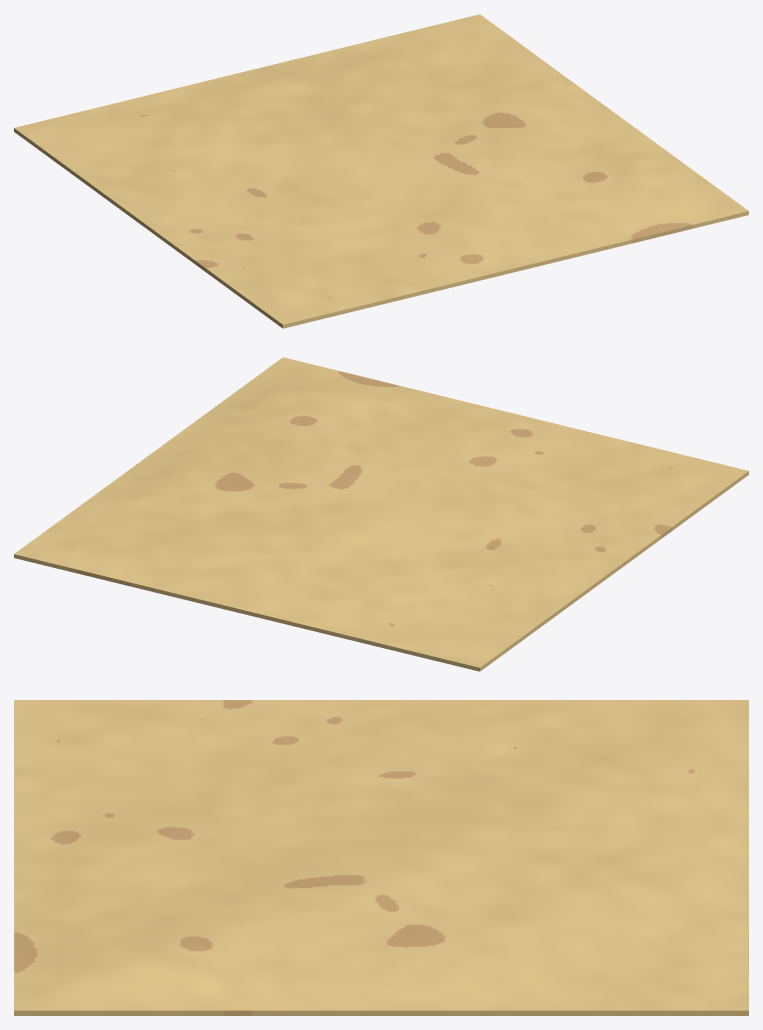
The model's file is Desert_Flat_01.obj.
3 renders of one model, top to bottom at view 1: azimuth 30°, elevation 25°; view 2: azimuth 150°, elevation 25°; view 3: azimuth 270°, elevation 25°, orthographic. The views are drawn at different scales.
Bounding box in the file's own units: 10 × 0.2416 × 10.
1 material, 1 textured.
